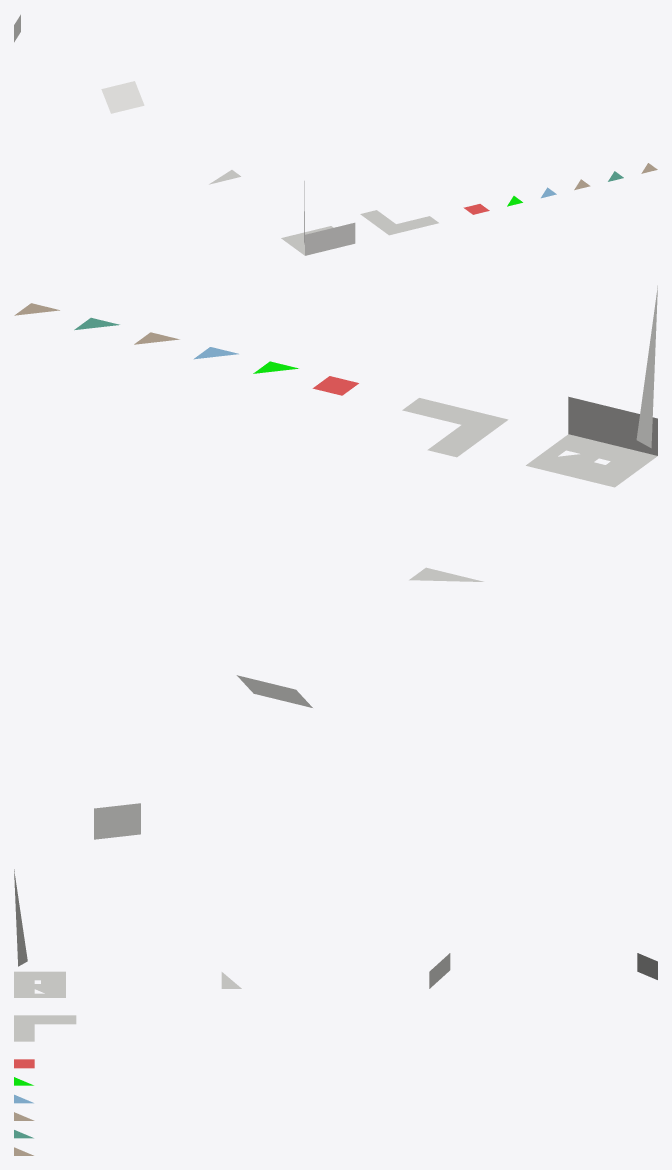
3 views of the same model, one above another, from view 1: azimuth 30°, elevation 25°; view 2: azimuth 150°, elevation 25°; view 3: azimuth 270°, elevation 25° (orthographic). The views are drawn at different scales.
Visible parts, largest first — view 1: Loose geometry; view 2: Loose geometry; view 3: Loose geometry.
Boxes of the visible parts, x1,y1,x2,y2 form: Loose geometry: (14,14,657,255); Loose geometry: (14,285,657,839); Loose geometry: (14,869,657,1155).
Size of the model in its own units: 21 by 5.5 by 31.
